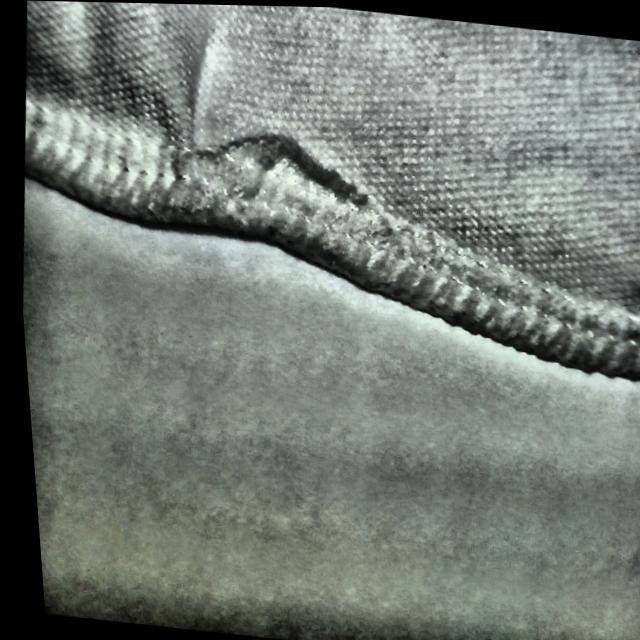seam: (121, 35, 382, 261)
